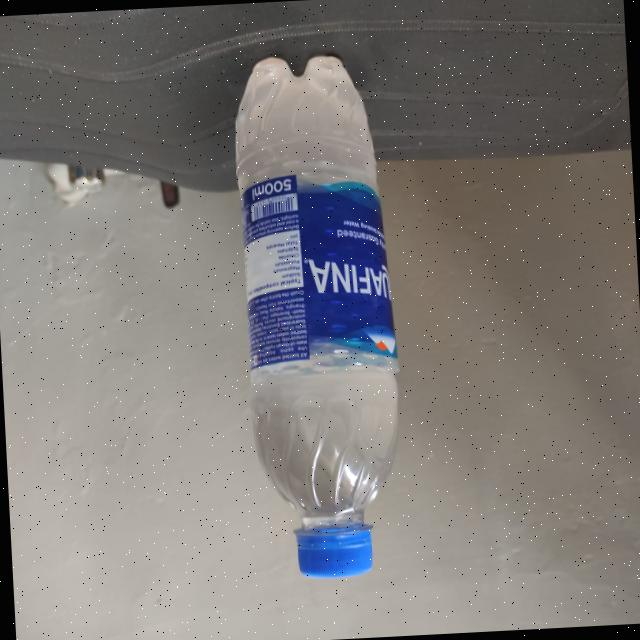bottle: (218, 51, 414, 586)
cap: (282, 514, 381, 584)
label: (230, 178, 392, 372)
